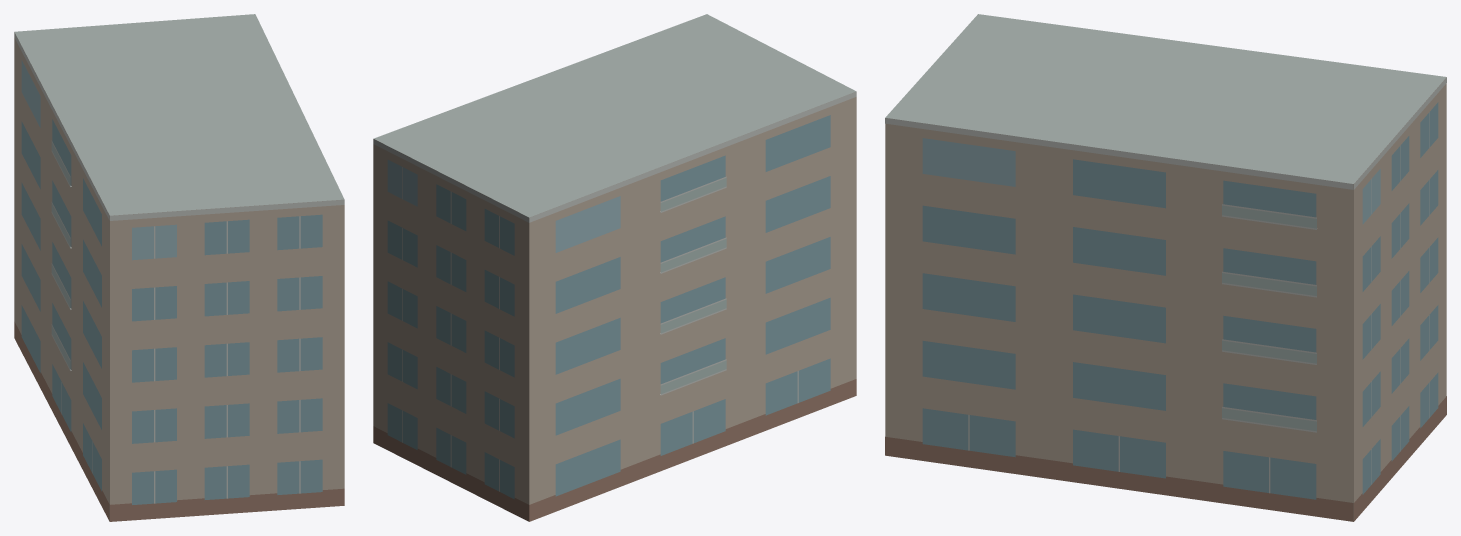
Rendered from survey-upis-32936379.glb.
3 views of the same model, side by side, from view 1: azimuth 30°, elevation 25°; view 2: azimuth 150°, elevation 25°; view 3: azimuth 270°, elevation 25° (orthographic). The views are drawn at different scales.
Parts seen in each view (by area): view 1: survey-upis-32936379.tmp; view 2: survey-upis-32936379.tmp; view 3: survey-upis-32936379.tmp.
Boxes of the visible parts, x1,y1,x2,y2 form: survey-upis-32936379.tmp: (14, 14, 344, 521); survey-upis-32936379.tmp: (373, 14, 856, 521); survey-upis-32936379.tmp: (885, 14, 1446, 521).
Bounding box in the file's own units: 15.13 × 14 × 21.11.
